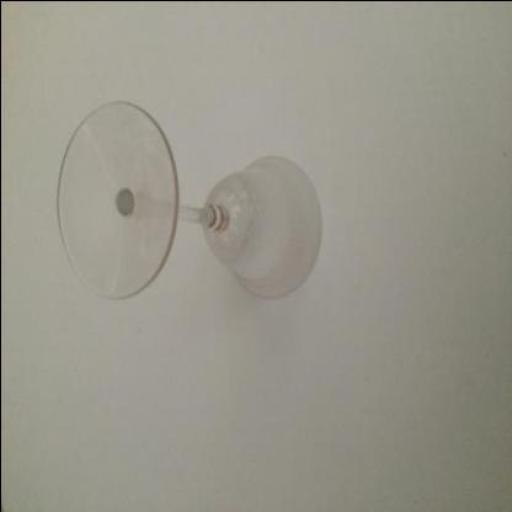glass: (55, 97, 319, 297)
